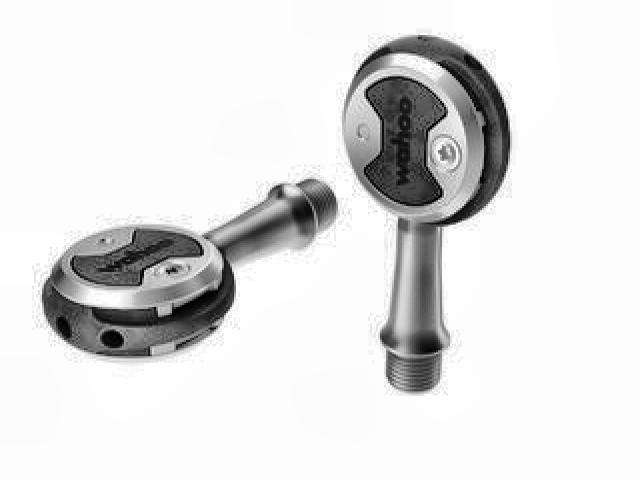pedal: (341, 29, 506, 396), (41, 175, 340, 366)
